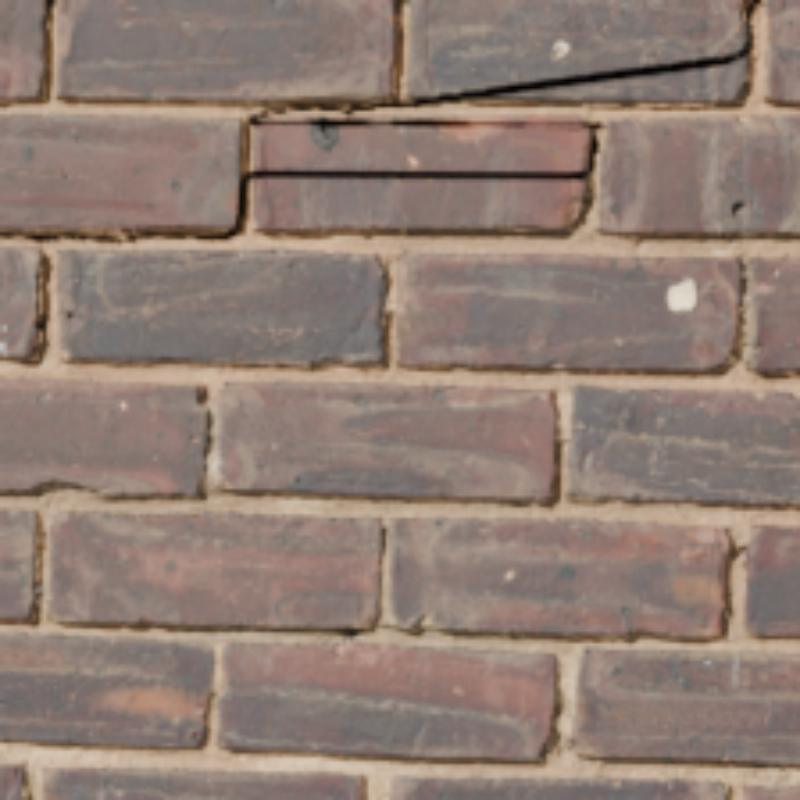crack: (0, 0, 763, 240)
